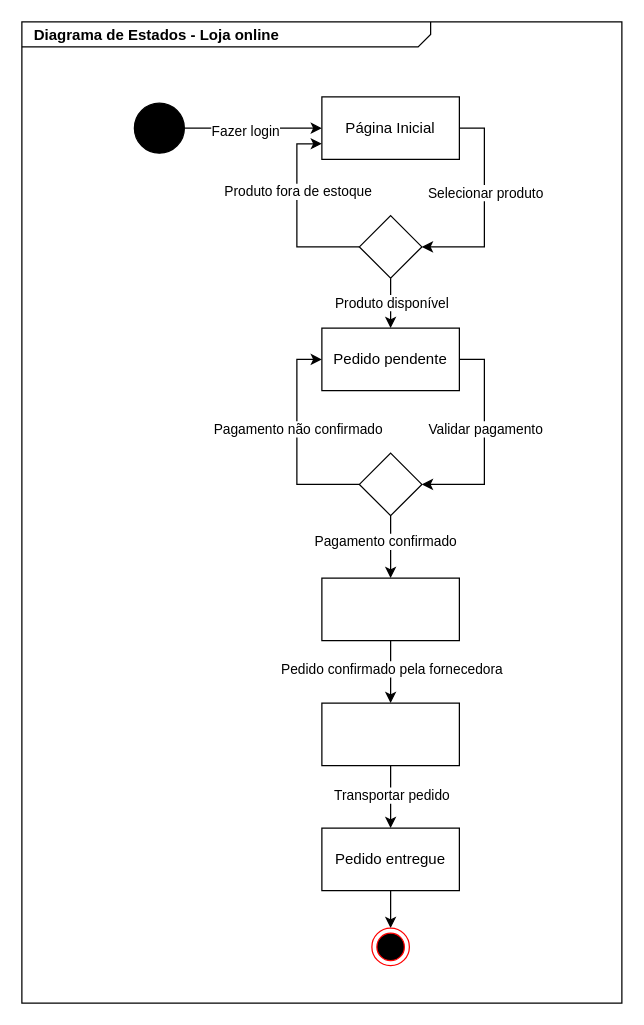
This 644x1025 diagram has some shape labels left out. The box of each missing label's shape, as (x1, y1, x2, y2) in pixels:
Pedido em processamento: (321, 577, 459, 641)
Pedido enviado: (321, 702, 459, 766)
